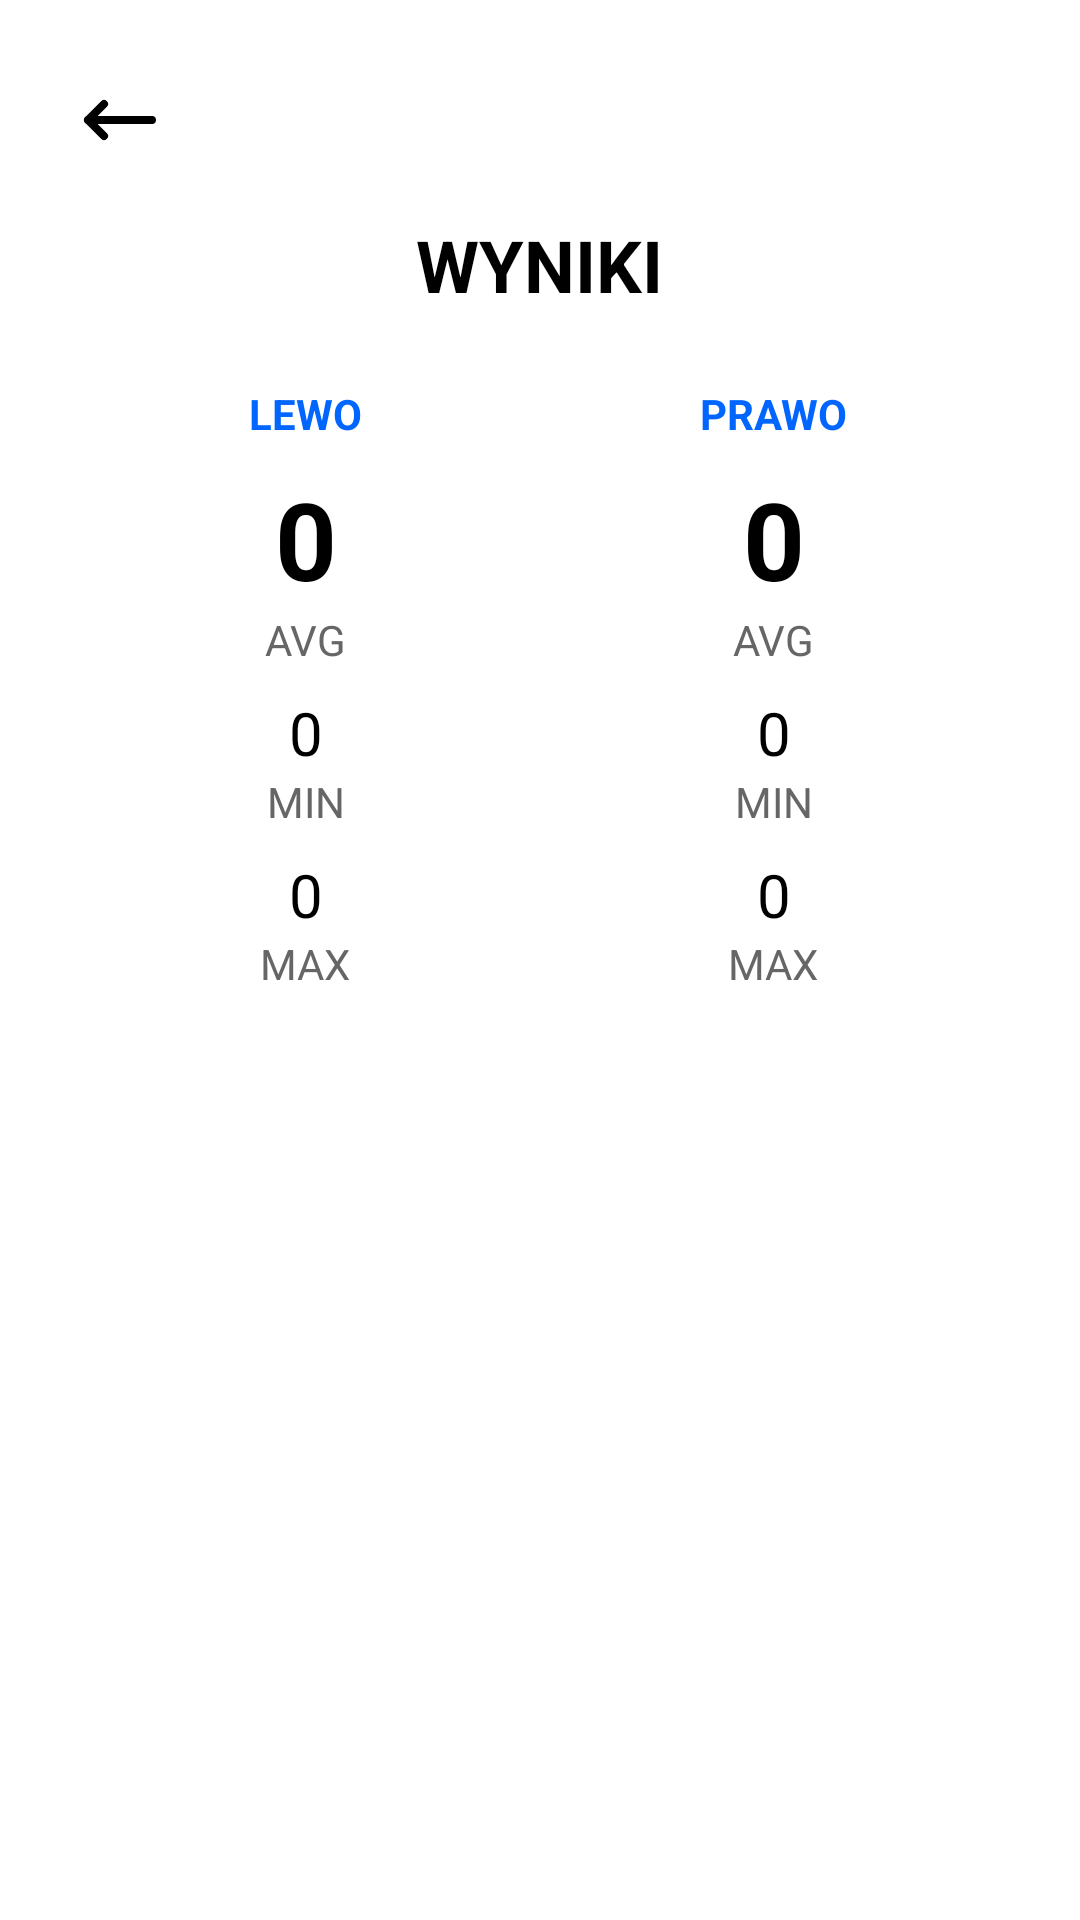

Where icons sit on this 1080 × 1920 app screen, as bbox=(x1, y1, x2, y2):
arrow: bbox=(83, 99, 156, 141)
